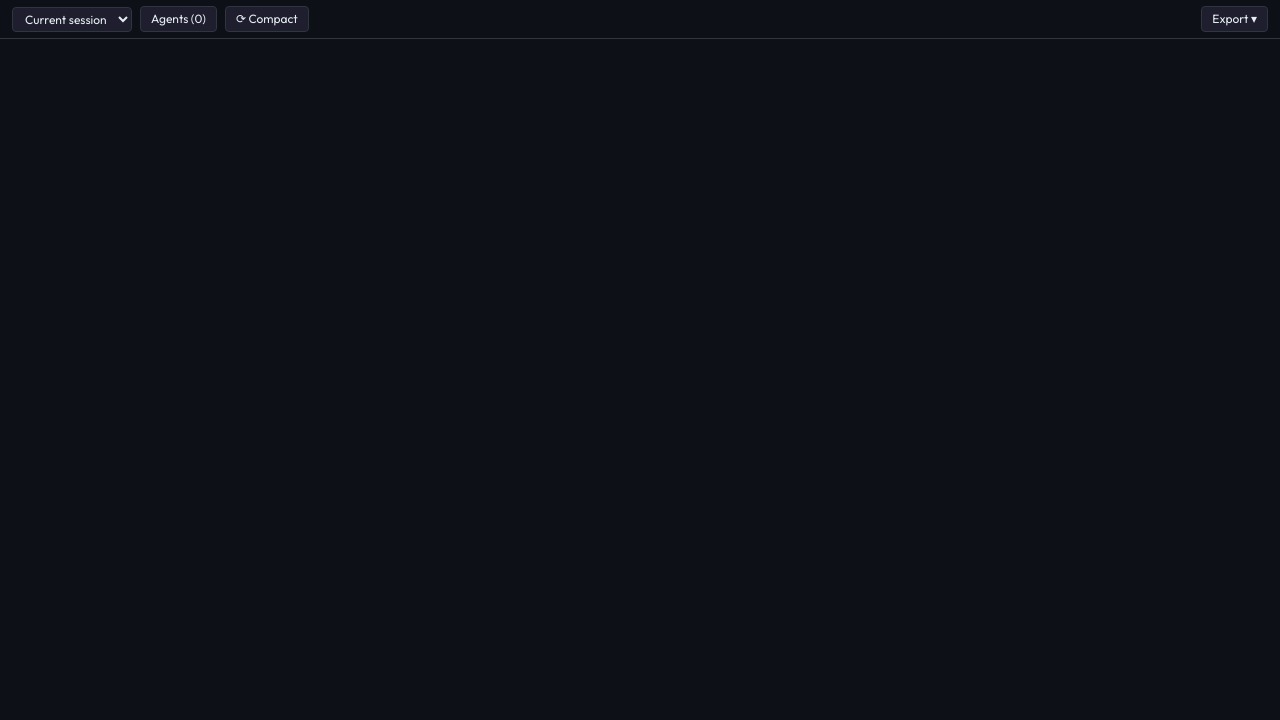
SessionToolbar › closes dropdown on outside mousedown
Click the button "Agents (0)" at (178, 19), box [140,6,217,32]
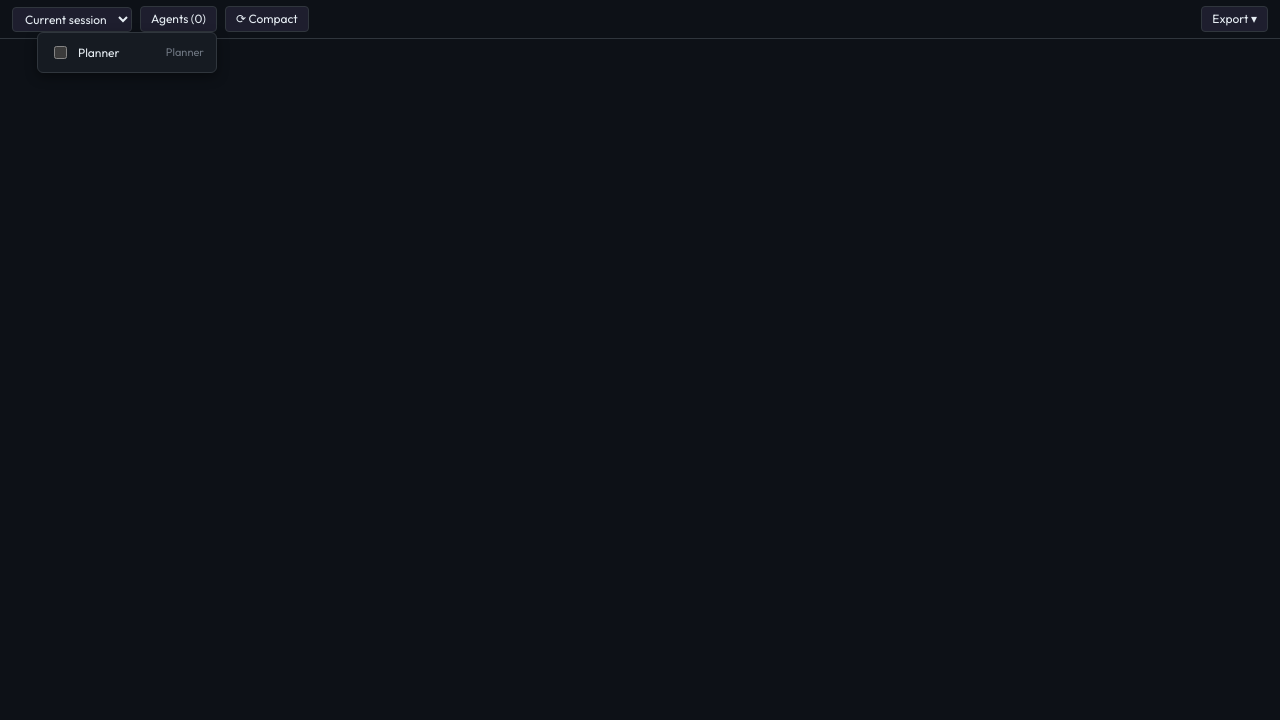
expect the number of checkboxes is 1: met, box [54,46,67,59]
Simulate outside click
Press the mouse on the element showing "Agents (0) Planner Planner ⟳ Compact Export ▾" at (640, 360), box [0,0,1279,719]
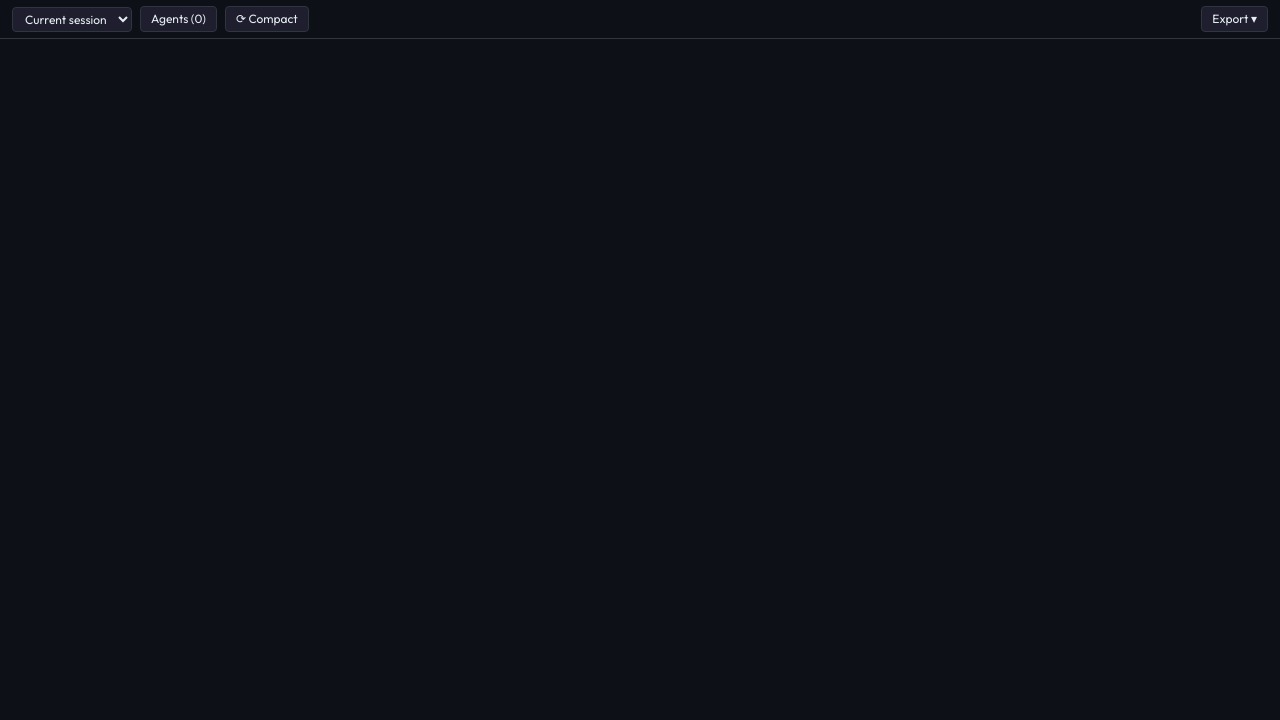
expect no checkboxes are shown: met
